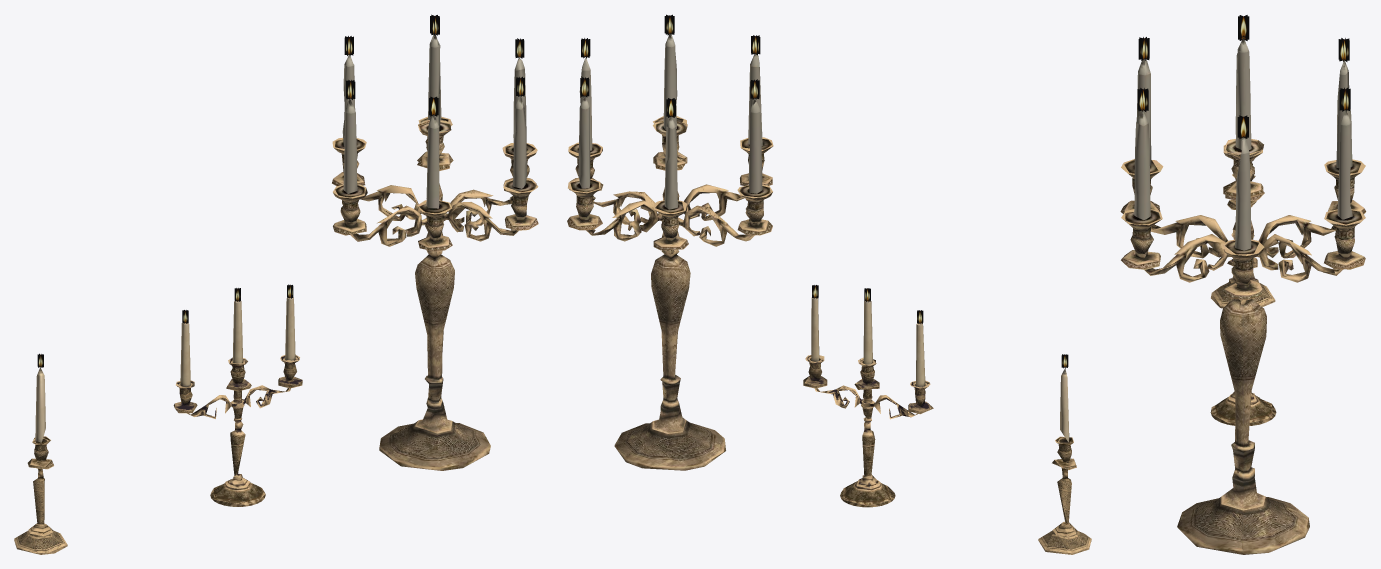
Rendered from brass_candleholders.glb.
3 views of the same model, side by side, from view 1: azimuth 30°, elevation 25°; view 2: azimuth 150°, elevation 25°; view 3: azimuth 270°, elevation 25° (orthographic). The views are drawn at different scales.
Visible parts, largest first — view 1: brass_candleholder_03, brass_candleholder_02, brass_candleholder_01; view 2: brass_candleholder_03, brass_candleholder_02, brass_candleholder_01; view 3: brass_candleholder_03, brass_candleholder_02, brass_candleholder_01.
Part boxes in pixels (bbox=[...]): brass_candleholder_03: bbox=[37, 14, 538, 470]; brass_candleholder_02: bbox=[173, 297, 302, 506]; brass_candleholder_01: bbox=[14, 368, 67, 554]; brass_candleholder_03: bbox=[567, 14, 1068, 470]; brass_candleholder_02: bbox=[803, 297, 933, 507]; brass_candleholder_01: bbox=[1038, 368, 1091, 554]; brass_candleholder_03: bbox=[1120, 15, 1366, 554]; brass_candleholder_02: bbox=[1210, 233, 1276, 425]; brass_candleholder_01: bbox=[1211, 174, 1275, 308].
Bounding box in the file's own units: 1.05 × 0.8353 × 0.3647.
Materials: 5 (5 with a texture image).
